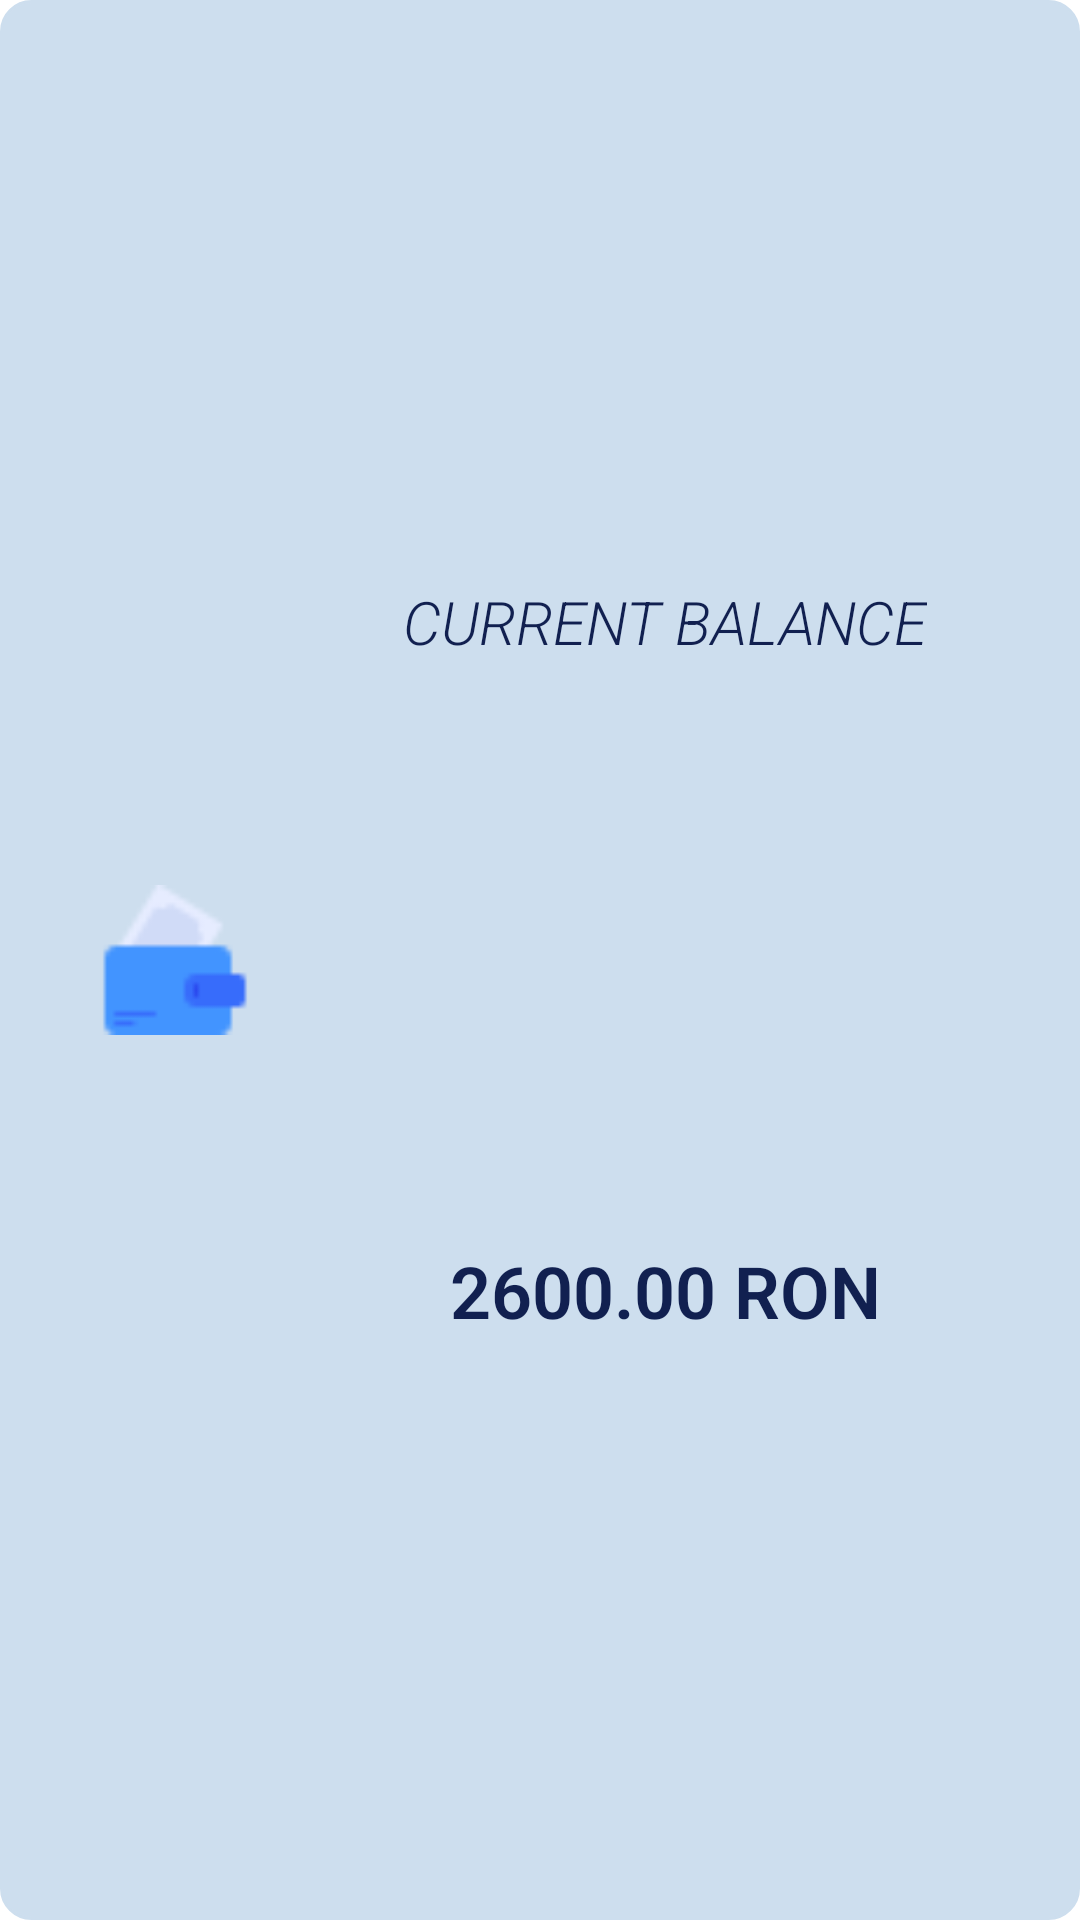

Icons on this 1080 x 1920 Android screen, each with its box as [x1, y1, x2, y2]:
walleticon: [103, 891, 247, 1035]
